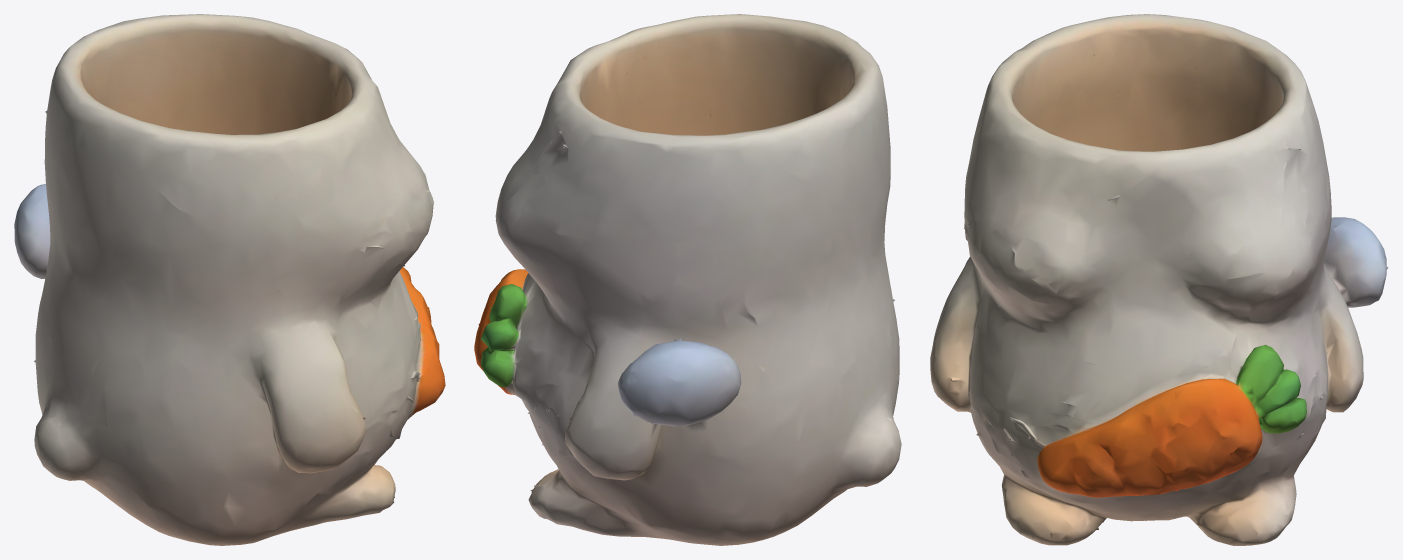
File: body.glb
3 views of the same model, side by side, from view 1: azimuth 30°, elevation 25°; view 2: azimuth 150°, elevation 25°; view 3: azimuth 270°, elevation 25° (orthographic). The views are drawn at different scales.
Visible parts, largest first — view 1: tripo_node_22a8f47c-feca-442c-b6be-e2772a6c1b06; view 2: tripo_node_22a8f47c-feca-442c-b6be-e2772a6c1b06; view 3: tripo_node_22a8f47c-feca-442c-b6be-e2772a6c1b06.
Boxes of the visible parts, left/top/right/bottom form: tripo_node_22a8f47c-feca-442c-b6be-e2772a6c1b06: left=14, top=14, right=445, bottom=545; tripo_node_22a8f47c-feca-442c-b6be-e2772a6c1b06: left=474, top=14, right=901, bottom=545; tripo_node_22a8f47c-feca-442c-b6be-e2772a6c1b06: left=930, top=14, right=1388, bottom=545.
Bounding box in the file's own units: 0.9193 × 1 × 0.9939.
1 material, 1 textured.
